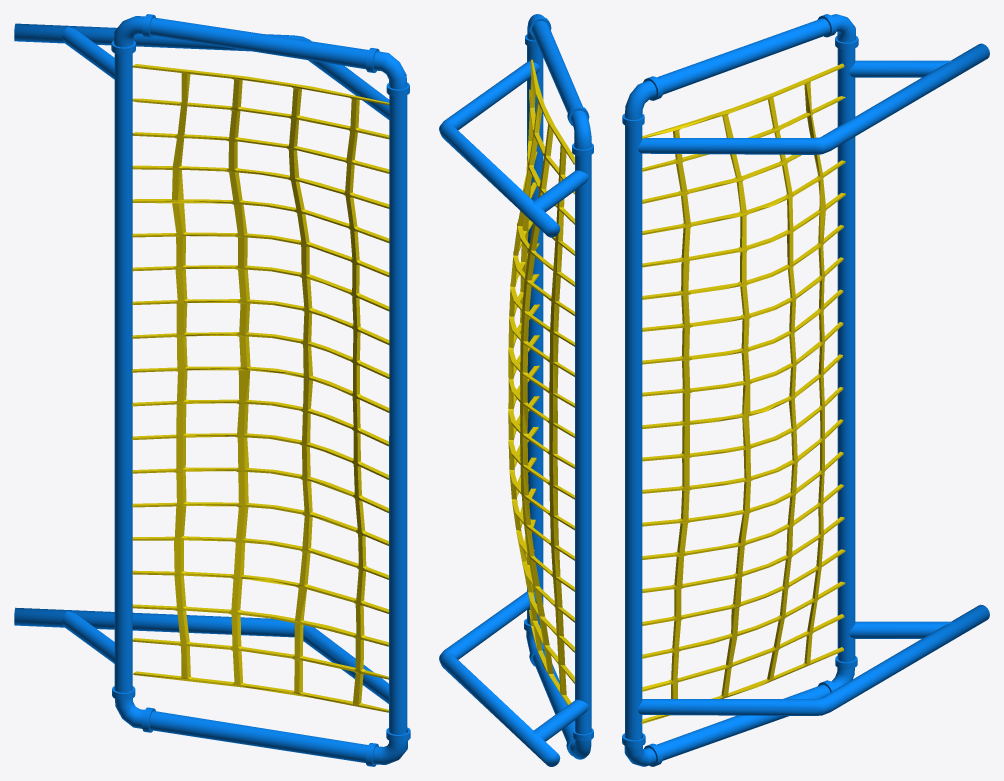
Rendered from Safety_Nets_Tall_Blue.glb.
The picture shows the model from 3 angles, left to right: view 1: azimuth 30°, elevation 25°; view 2: azimuth 150°, elevation 25°; view 3: azimuth 270°, elevation 25°; orthographic projection. The views are drawn at different scales.
Parts seen in each view (by area): view 1: Safety_Nets_Tall_Blue; view 2: Safety_Nets_Tall_Blue; view 3: Safety_Nets_Tall_Blue.
Part boxes in pixels (x1=…): Safety_Nets_Tall_Blue: x1=14, y1=14, x2=410, y2=766; Safety_Nets_Tall_Blue: x1=439, y1=14, x2=593, y2=766; Safety_Nets_Tall_Blue: x1=622, y1=14, x2=989, y2=766.
Bounding box in the file's own units: 2.52 × 7.95 × 3.85.
